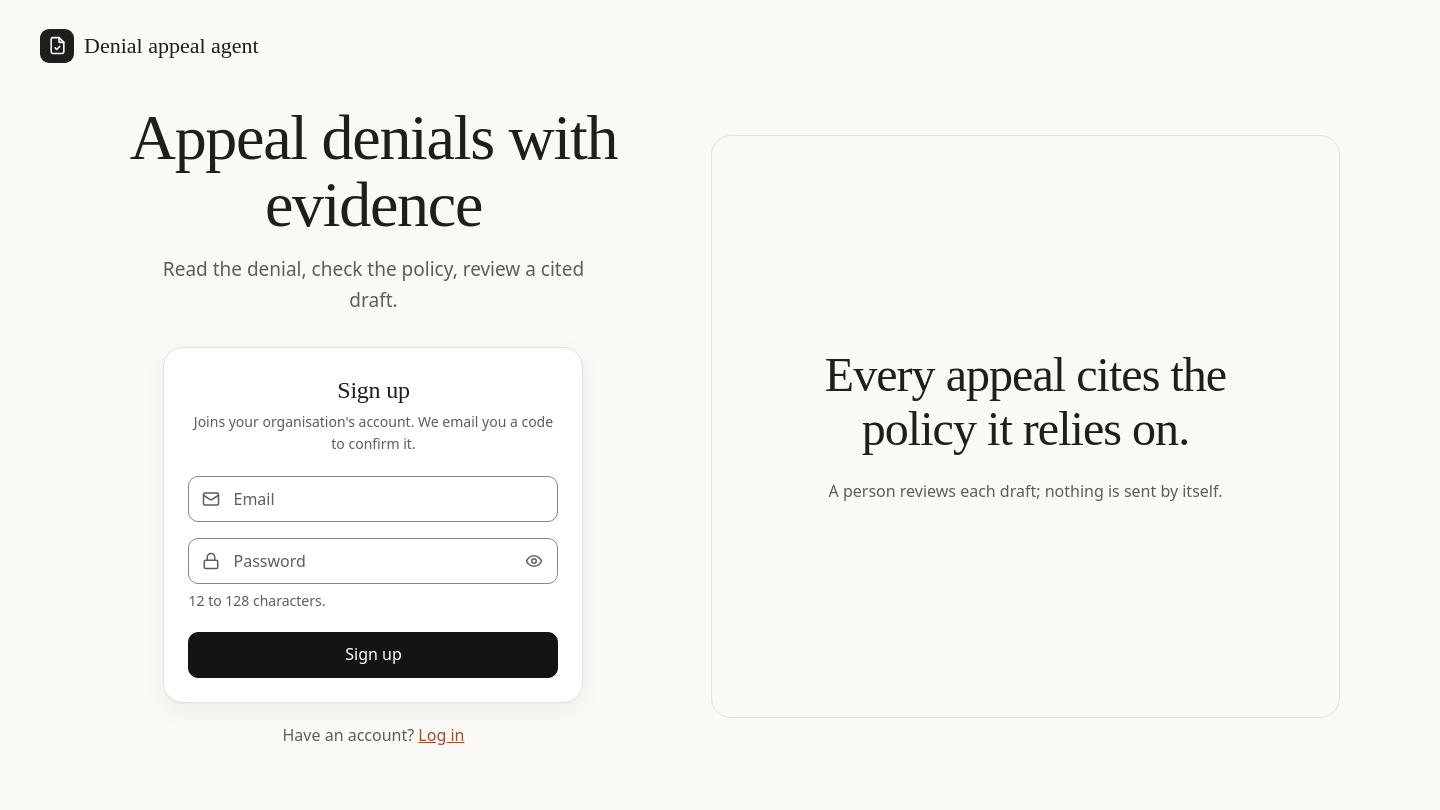
Test: SignupScreen › creates the user and goes to the code screen without logging in
The width and height of the screenshot is (1440, 810).
Step 1. Type "ada@example.test" into the field labelled "Email" → (374, 499), box [188,476,558,522]
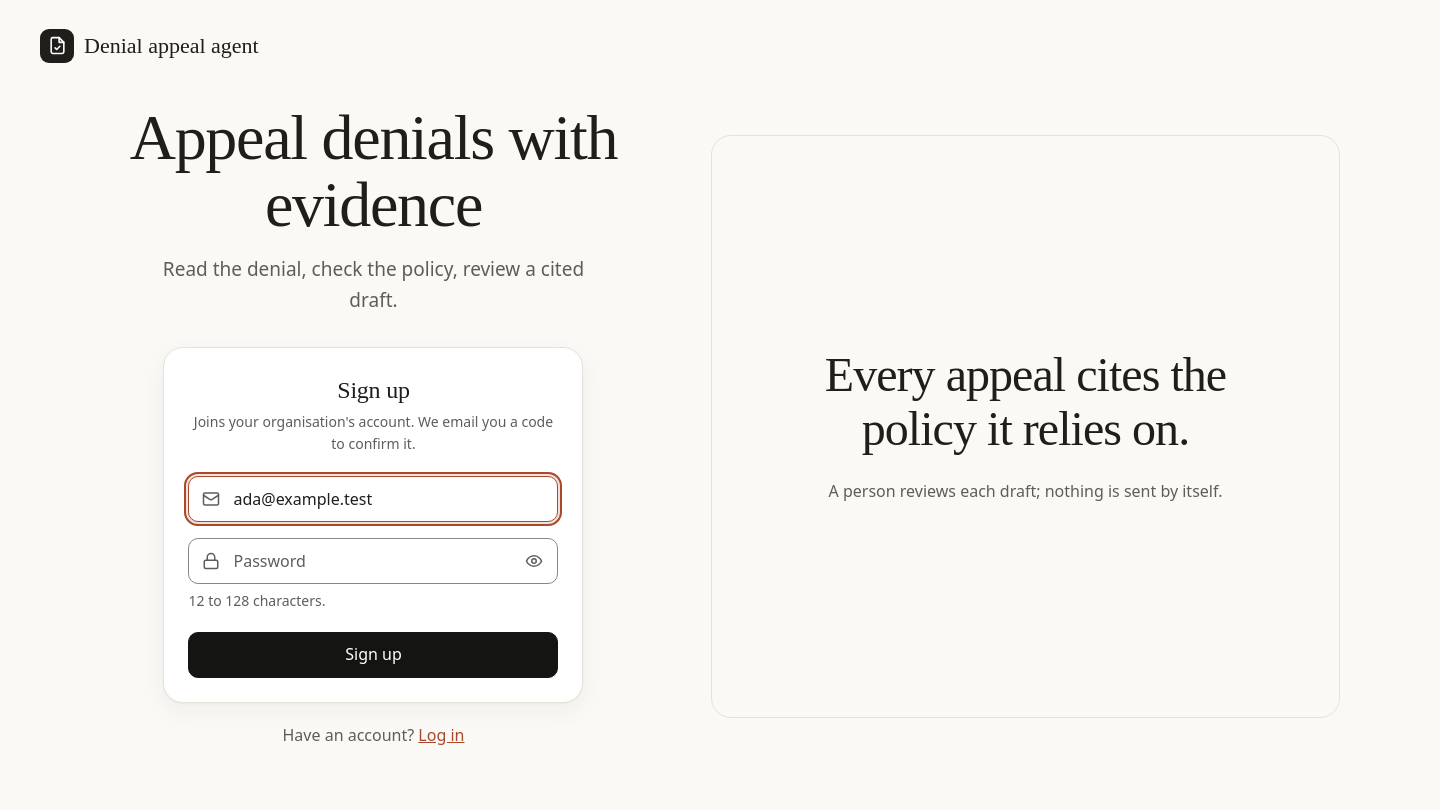
Step 2. Type "a long made-up password" into the password field labelled "Password" → (374, 561), box [188,538,558,584]
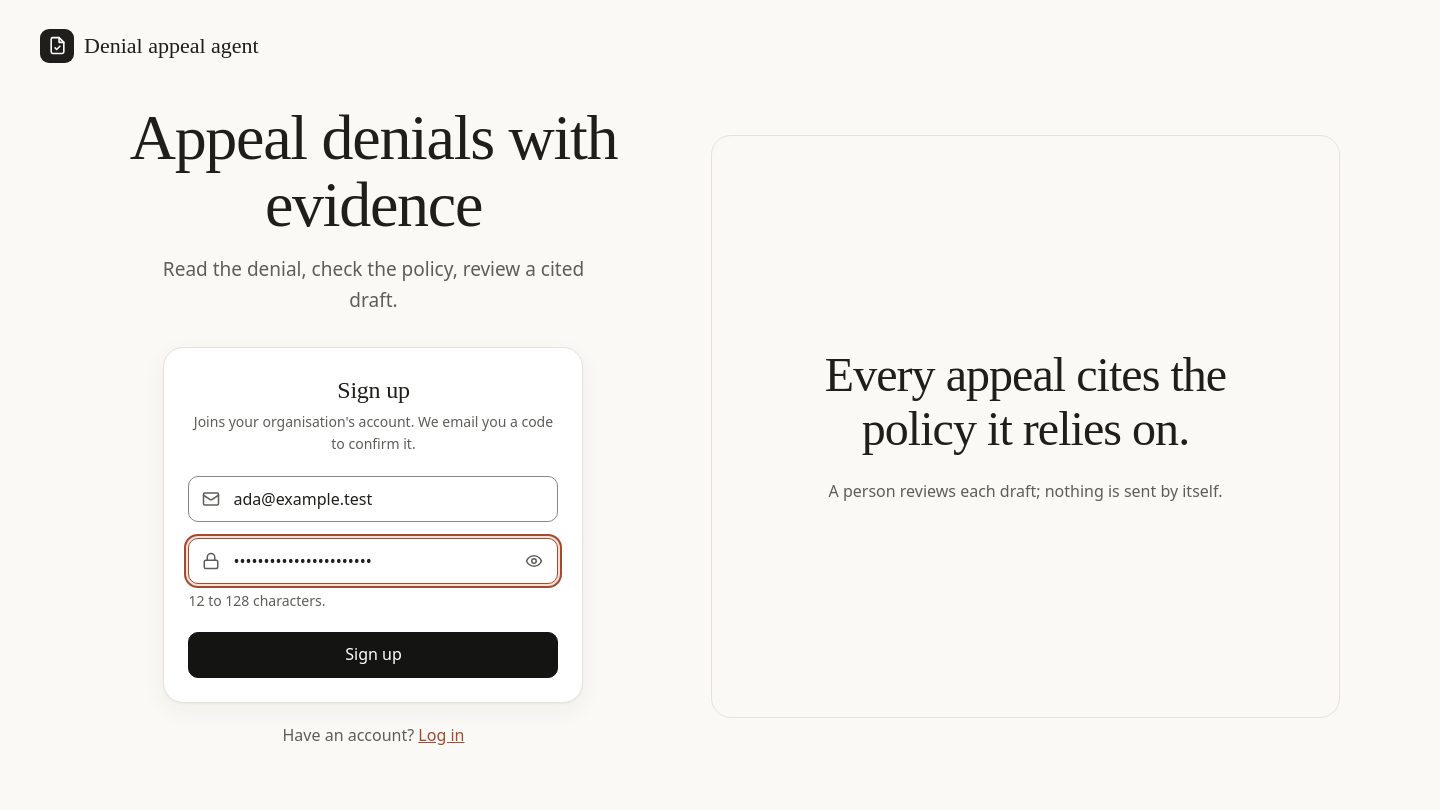
Step 3. Click the button "Sign up" → (374, 655), box [188,632,558,678]
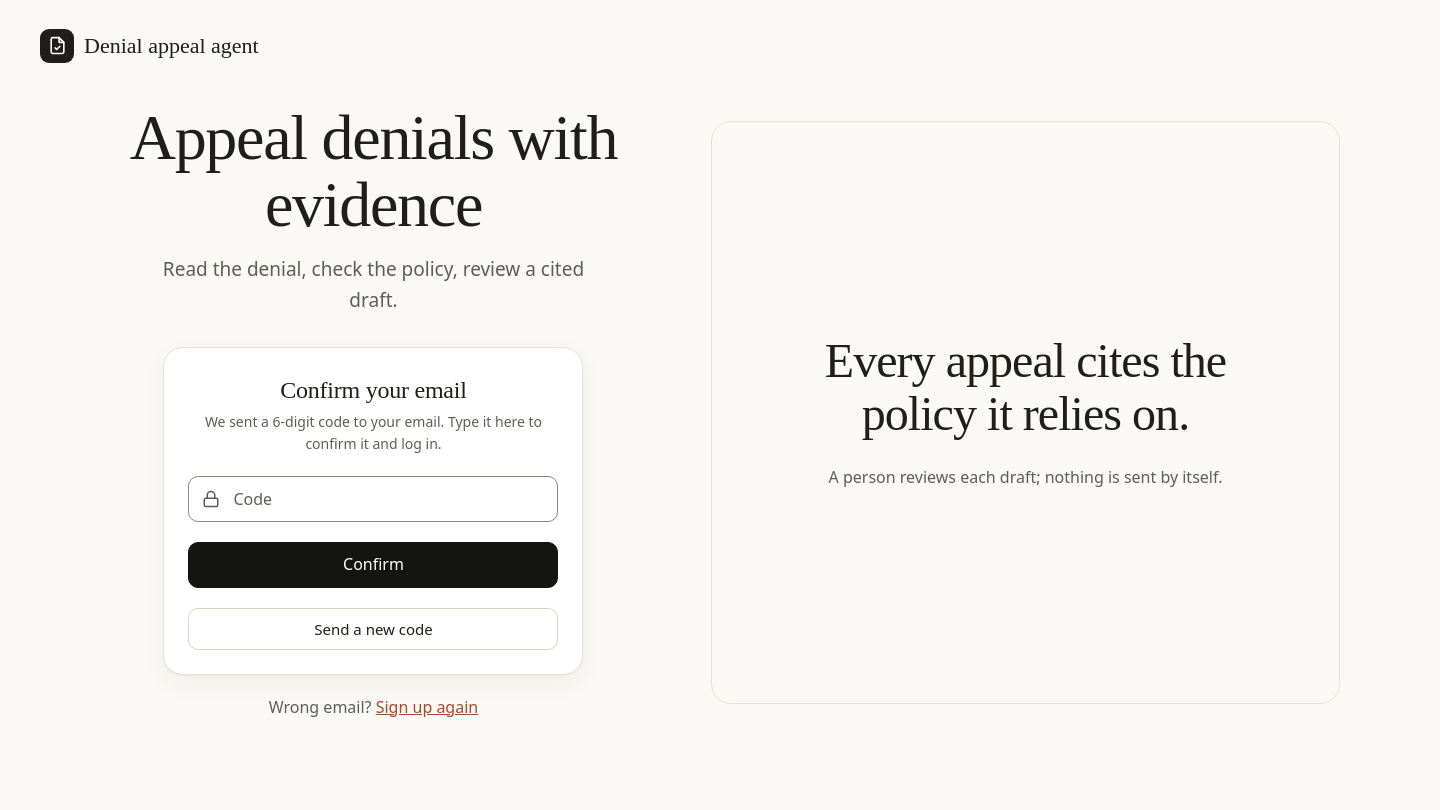
Check: the heading "Confirm your email" is shown, box [280,377,467,403]
